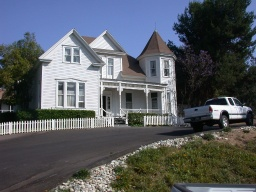car: (183, 93, 253, 132)
